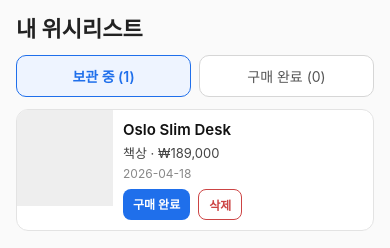
Test: WishlistScreen (UC-02-wishlist AC-39..AC-46) › AC-41: markPurchasedFlow — confirm → PATCH PURCHASED → moves to Purchased tab
The width and height of the screenshot is (390, 248).
expect the text "내 위시리스트" is shown: met, box left=16, top=16, right=143, bottom=42
// Tap 구매 완료 → Alert.alert with the confirm prompt.
Click the element with test id "btn-mark-purchased-w1": (157, 204) left=123, top=189, right=190, bottom=220
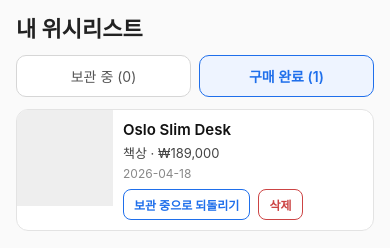
expect the element with test id "wishlist-card-w1" is shown: met, box left=16, top=109, right=374, bottom=231
// And must no longer appear under the Active tab.
Click the element with test id "tab-btn-active": (104, 76) left=16, top=55, right=191, bottom=97
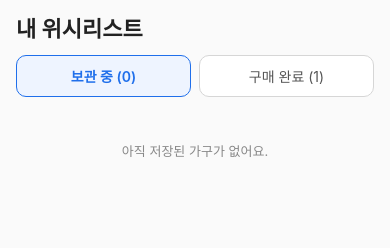
expect the element with test id "wishlist-card-w1" is gone: met
